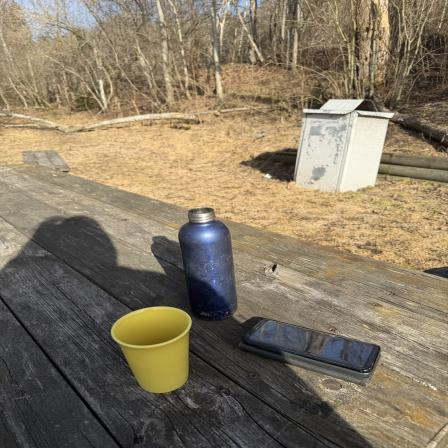blue_bottle: (178, 206, 243, 318)
phone: (238, 318, 382, 380)
yellow_cup: (109, 307, 200, 396)
